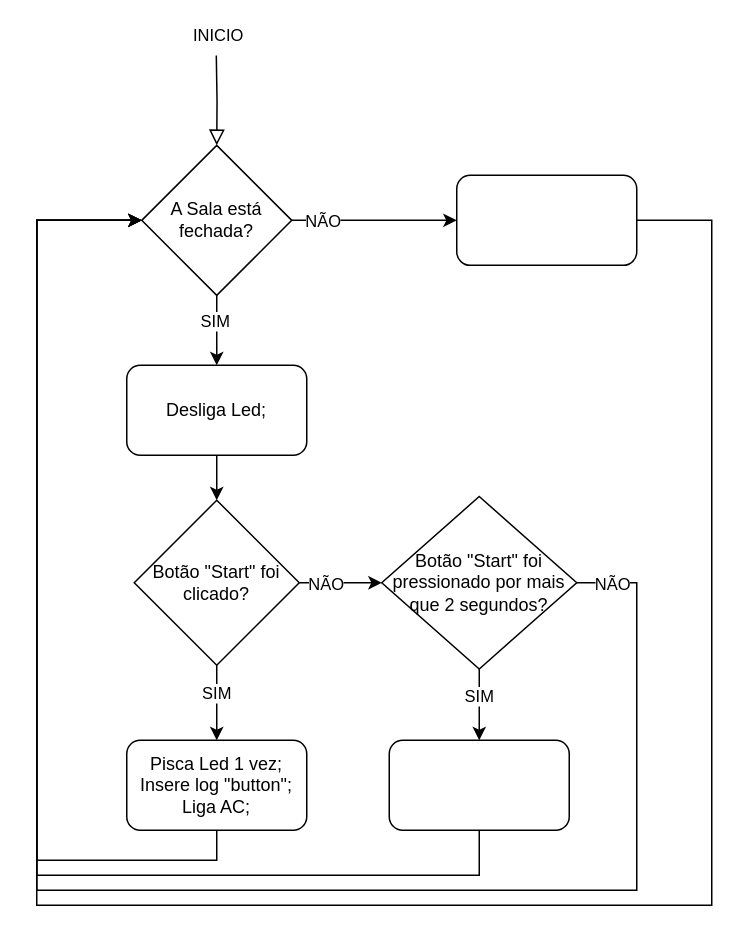
Image size: 750x945. Some labels were removed from this diagram. Each missing label, with the box of its shape:
Liga Led; Insere log "stop"; Desliga AC;: (455, 174, 637, 265)
Pisca Led 2 vezes; Envia log;: (388, 739, 569, 830)
